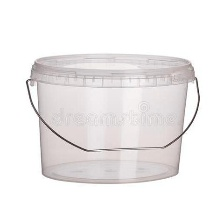plastic_box: (16, 46, 209, 189)
